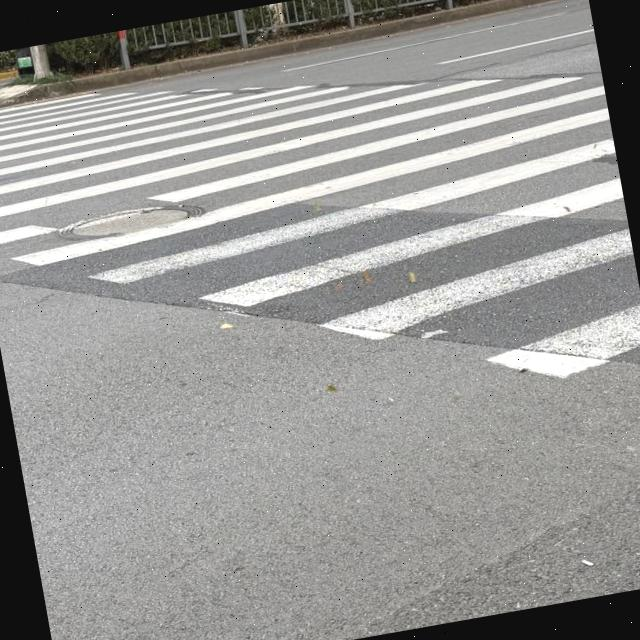curb: (0, 0, 552, 104), (0, 68, 16, 79)
